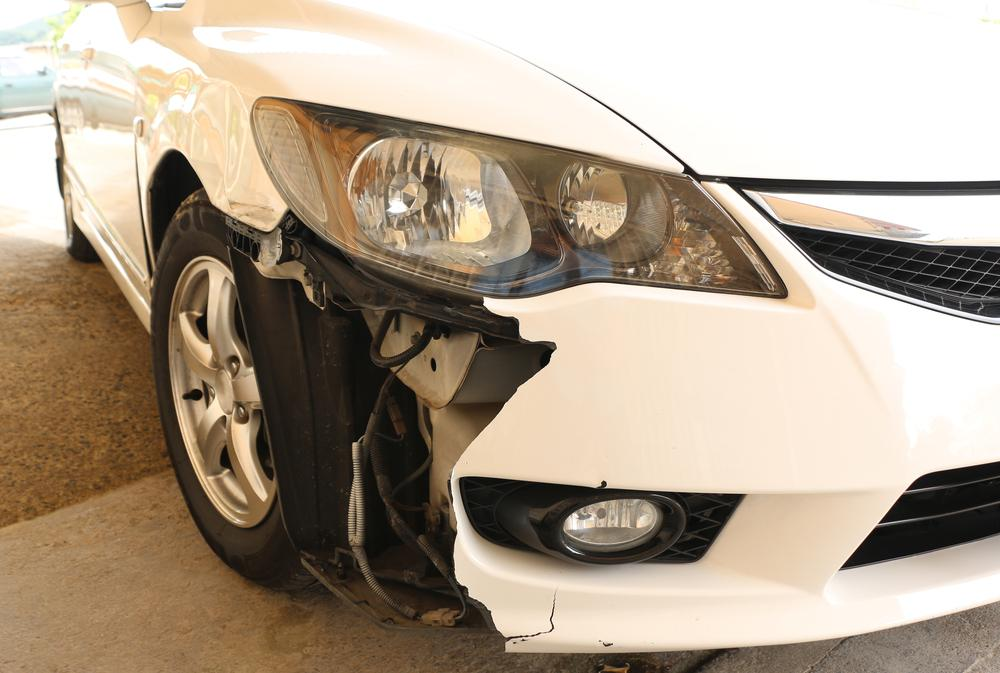crack: (505, 581, 560, 643)
dent: (193, 83, 246, 193)
